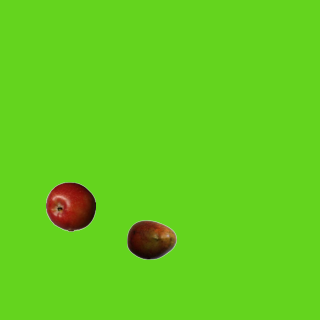Apple Braeburn: (45, 181, 95, 231)
Mango Red: (126, 214, 176, 264)
